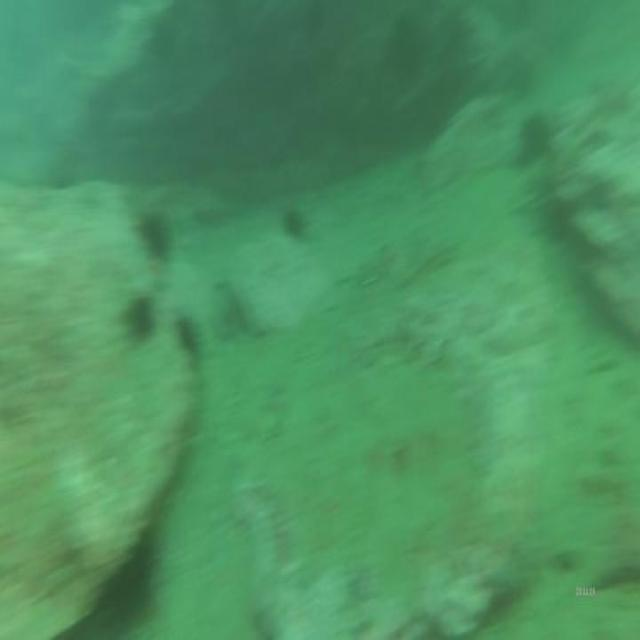echinus: (123, 284, 160, 344), (136, 210, 175, 261), (175, 308, 205, 362), (521, 112, 547, 166)
